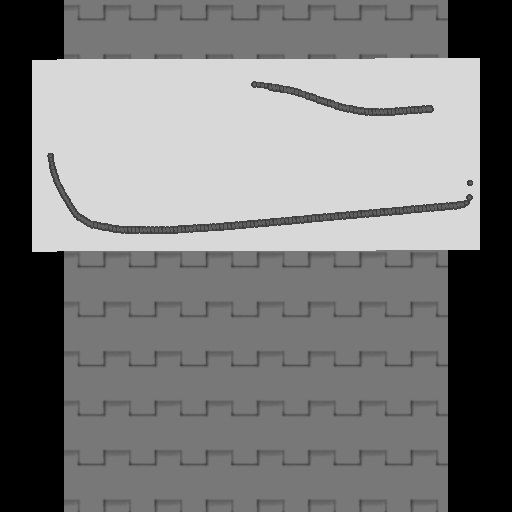Defect: (45, 75, 251, 157)
